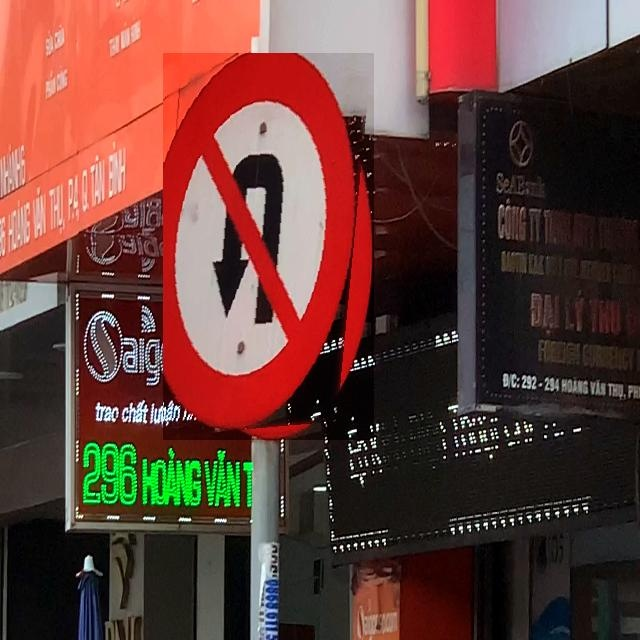bien_cam: (163, 53, 374, 440)
